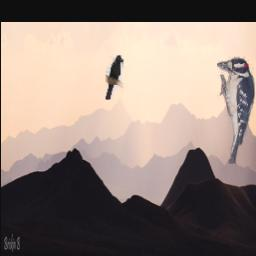Crow: (106, 56, 124, 101)
Woodpecker: (217, 56, 255, 165)
